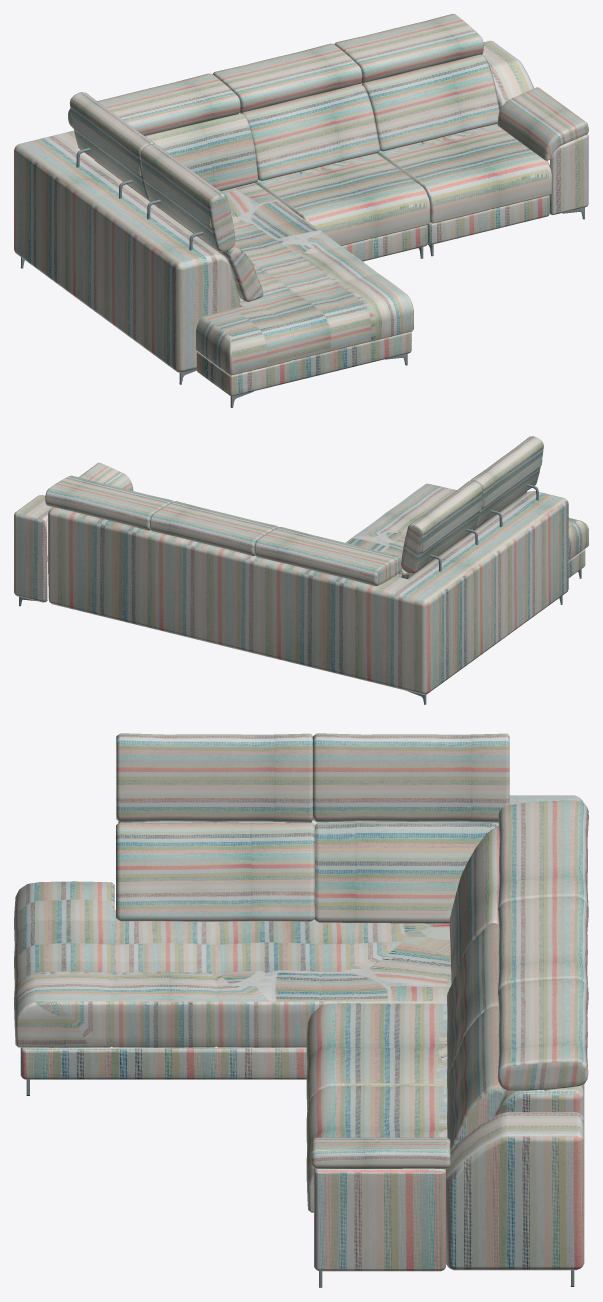
The model's file is sofatest.gltf.
3 renders of one model, top to bottom at view 1: azimuth 30°, elevation 25°; view 2: azimuth 150°, elevation 25°; view 3: azimuth 270°, elevation 25°, orthographic. The views are drawn at different scales.
Parts seen in each view (by area): view 1: Estructura, Sillon_Grande, Sillon_Pequeño2, Sillon_Pequeño, Cojin7, Cojin6, Cojin10, Cojin11, Cojin9, Cojin2, Cojin4, Base_Sillo1 (+7 smaller); view 2: Estructura, Cojin9, Cojin8, Cojin10, Cojin11, Sillon_Grande, Estructura2, Cojin2, Cojin5; view 3: Sillon_Grande, Estructura2, Cojin1, Cojin2, Cojin8, Cojin3, Estructura3, Sillon_Pequeño, Cojin11, Base_Sillo1, Cojin9, Sillon_Pequeño2 (+6 smaller).
Boxes of the visible parts, x1,y1,x2,y2 form: Estructura: [14, 83, 361, 372]; Sillon_Grande: [196, 183, 413, 375]; Sillon_Pequeño2: [377, 124, 552, 223]; Sillon_Pequeño: [255, 153, 430, 246]; Cojin7: [362, 54, 499, 151]; Cojin6: [241, 84, 380, 180]; Cojin10: [213, 43, 362, 113]; Cojin11: [334, 14, 483, 83]; Cojin9: [68, 73, 240, 135]; Cojin2: [140, 144, 235, 251]; Cojin4: [145, 113, 257, 191]; Base_Sillo1: [196, 332, 411, 396]; Estructura: [47, 491, 568, 694]; Cojin9: [254, 527, 402, 586]; Cojin8: [401, 480, 482, 573]; Cojin10: [150, 501, 278, 556]; Cojin11: [45, 475, 173, 530]; Sillon_Grande: [345, 483, 588, 577]; Estructura2: [14, 495, 53, 602]; Cojin2: [470, 436, 543, 528]; Cojin5: [79, 462, 133, 490]; Sillon_Grande: [14, 881, 451, 1047]; Estructura2: [446, 1112, 584, 1270]; Cojin1: [116, 822, 314, 921]; Cojin2: [116, 733, 312, 822]; Cojin8: [313, 733, 509, 822]; Cojin3: [314, 821, 498, 923]; Estructura3: [314, 1168, 445, 1271]; Sillon_Pequeño: [306, 1003, 447, 1109]; Cojin11: [498, 979, 588, 1090]; Base_Sillo1: [20, 1047, 306, 1079]; Cojin9: [498, 800, 588, 911]; Sillon_Pequeño2: [306, 1086, 447, 1212].
Bounding box in the file's own units: 4.83 × 1.76 × 3.59.
Materials: 4 (4 with a texture image).
